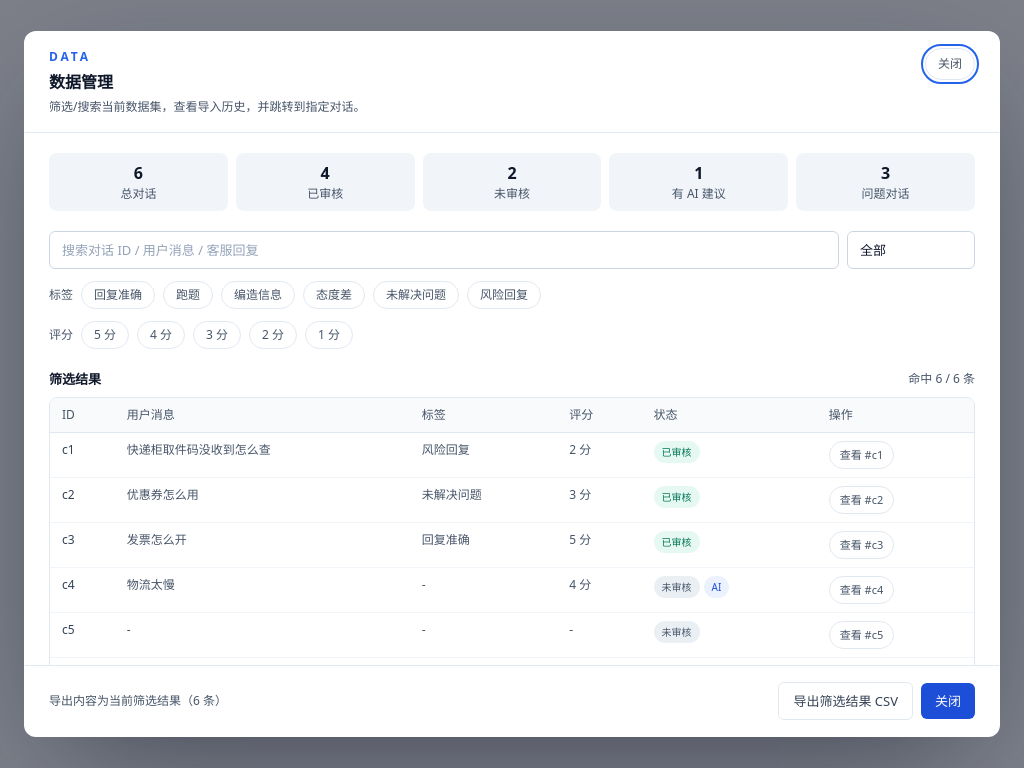
Test: DataManagerPanel 补充 · 审核状态三态筛选 › 已审核 / 未审核 / 有 AI 建议 / 全部 切换 → 命中数与行集合同步
The width and height of the screenshot is (1024, 768).
Select "已审核" in the dropdown named "审核状态". click: (911, 250)
box: [847, 231, 975, 269]
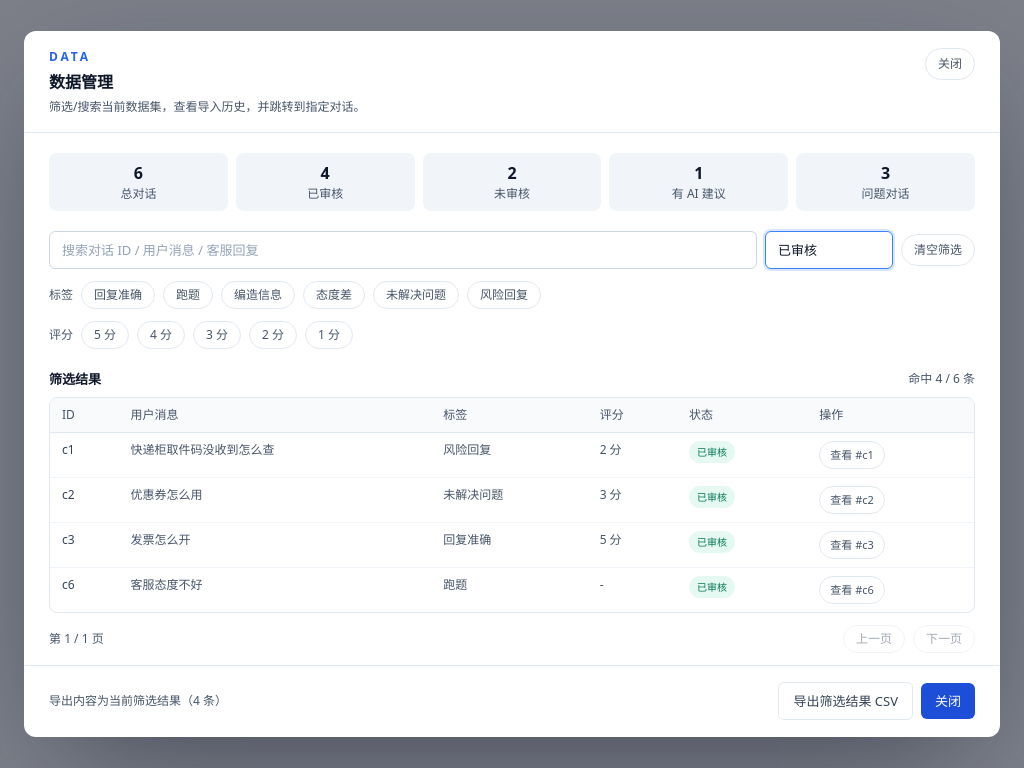
Now the text "命中 4 / 6 条" is shown, box [908, 370, 975, 388]
Select "未审核" in the dropdown named "审核状态". click: (829, 250)
box: [765, 231, 893, 269]
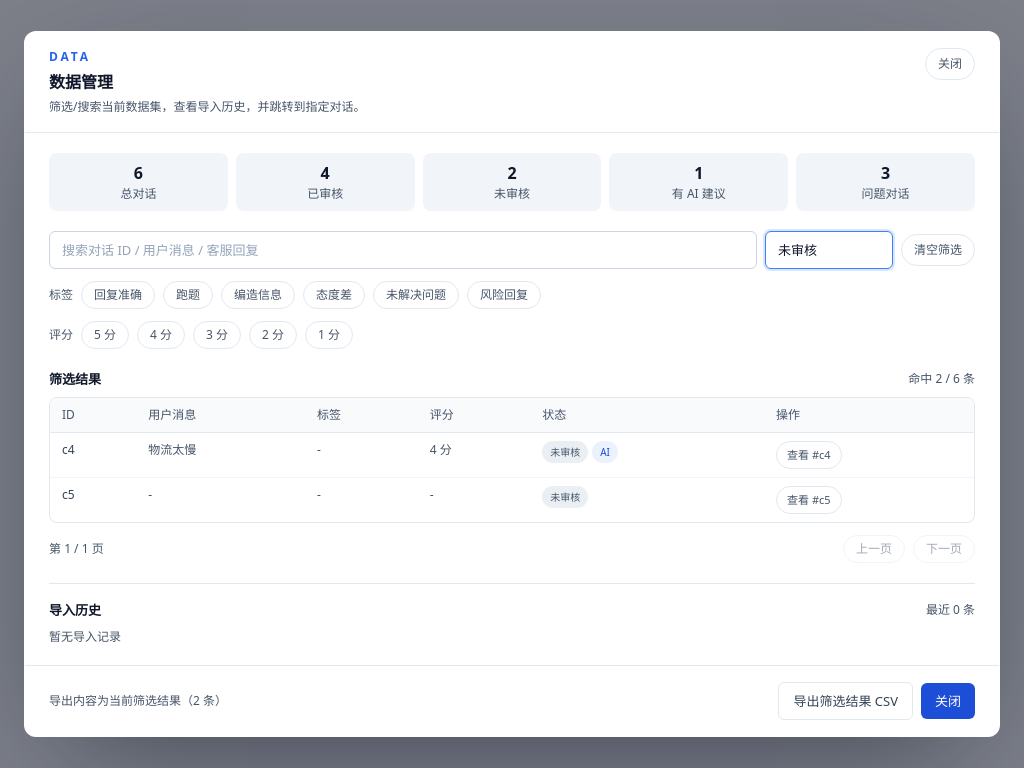
Now the text "命中 2 / 6 条" is shown, box [908, 370, 975, 388]
Select "有 AI 建议" in the dropdown named "审核状态". click: (829, 250)
box: [765, 231, 893, 269]
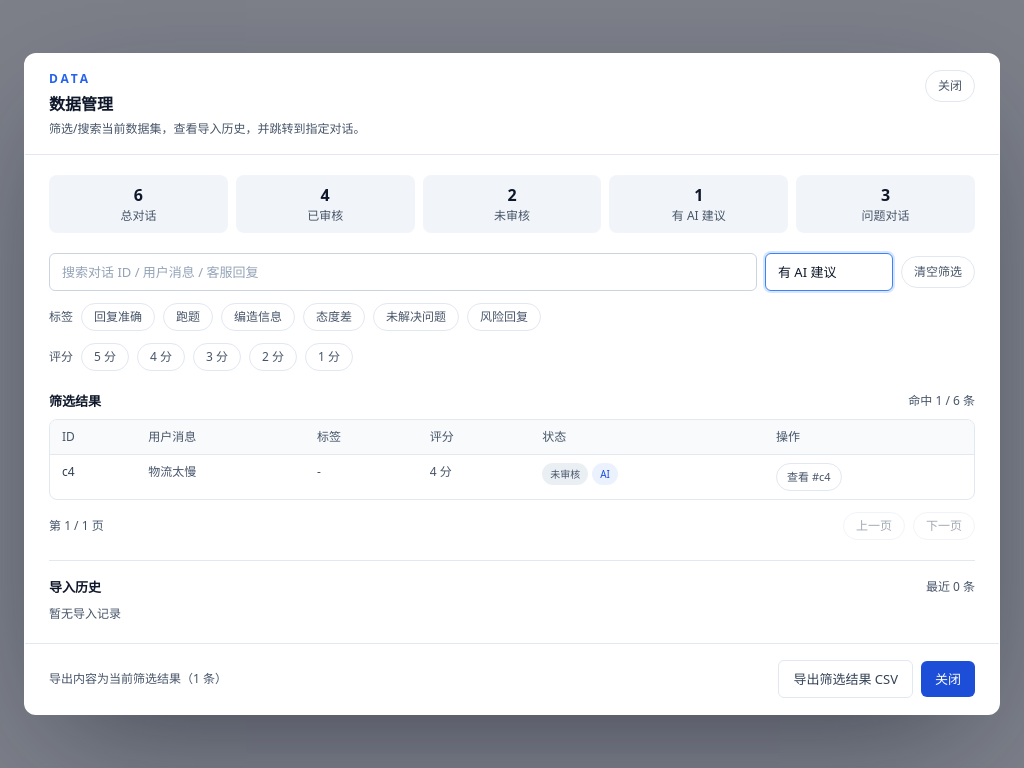
Now the text "命中 1 / 6 条" is shown, box [908, 392, 975, 410]
Select "全部" in the dropdown named "审核状态". click: (829, 272)
box: [765, 253, 893, 291]
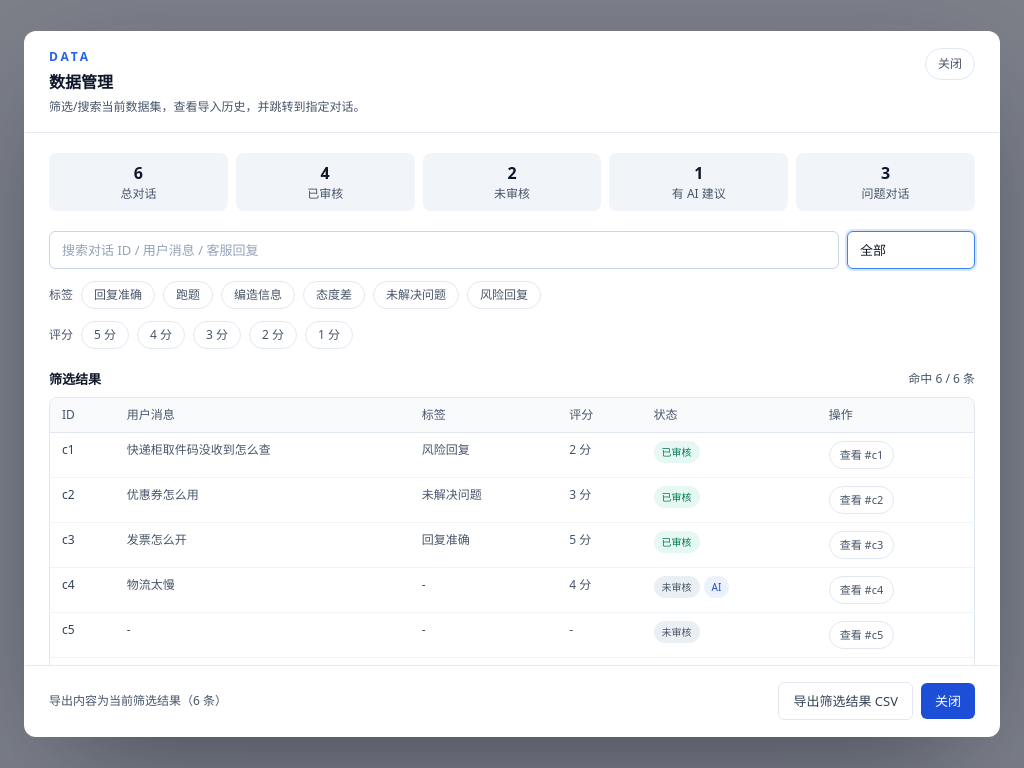
Now the text "命中 6 / 6 条" is shown, box [908, 370, 975, 388]
